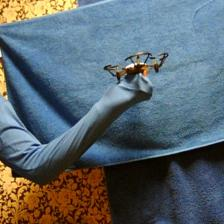drone: (102, 43, 169, 84)
